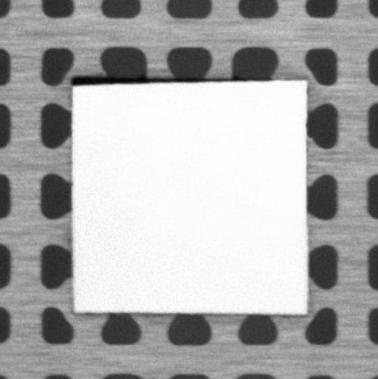DIE_BROKEN: (68, 76, 165, 88)
